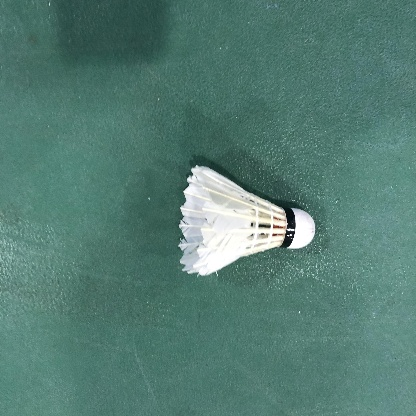ball_single: (178, 165, 315, 276)
